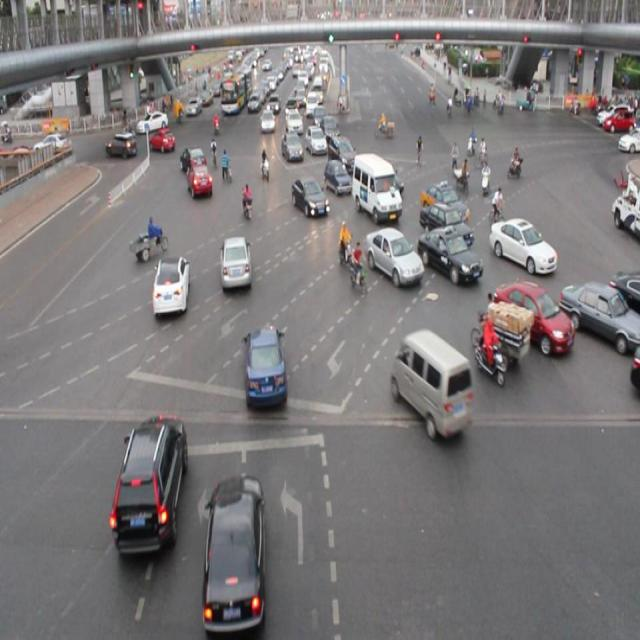car: (109, 411, 182, 556), (201, 475, 267, 633), (556, 277, 640, 357), (491, 285, 570, 359), (242, 325, 290, 412), (488, 215, 555, 276), (417, 226, 481, 286), (365, 225, 420, 285), (150, 253, 191, 314), (418, 202, 472, 248), (219, 231, 254, 290), (420, 180, 468, 223), (289, 176, 329, 222), (611, 266, 640, 316), (326, 134, 356, 172), (375, 164, 406, 200), (321, 160, 350, 196), (302, 122, 329, 157), (186, 163, 212, 198), (104, 133, 136, 161), (178, 143, 206, 172), (146, 127, 175, 154), (281, 131, 302, 163)
truck: (393, 327, 471, 439), (351, 152, 403, 223)
